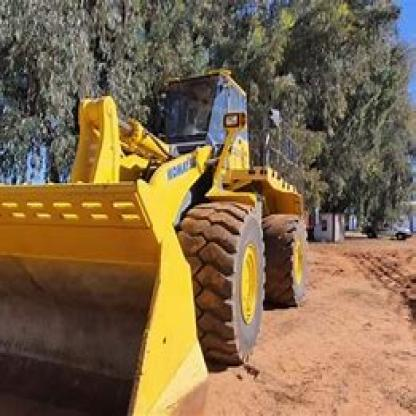bull_dozer/loader/grader: (0, 67, 322, 414)
